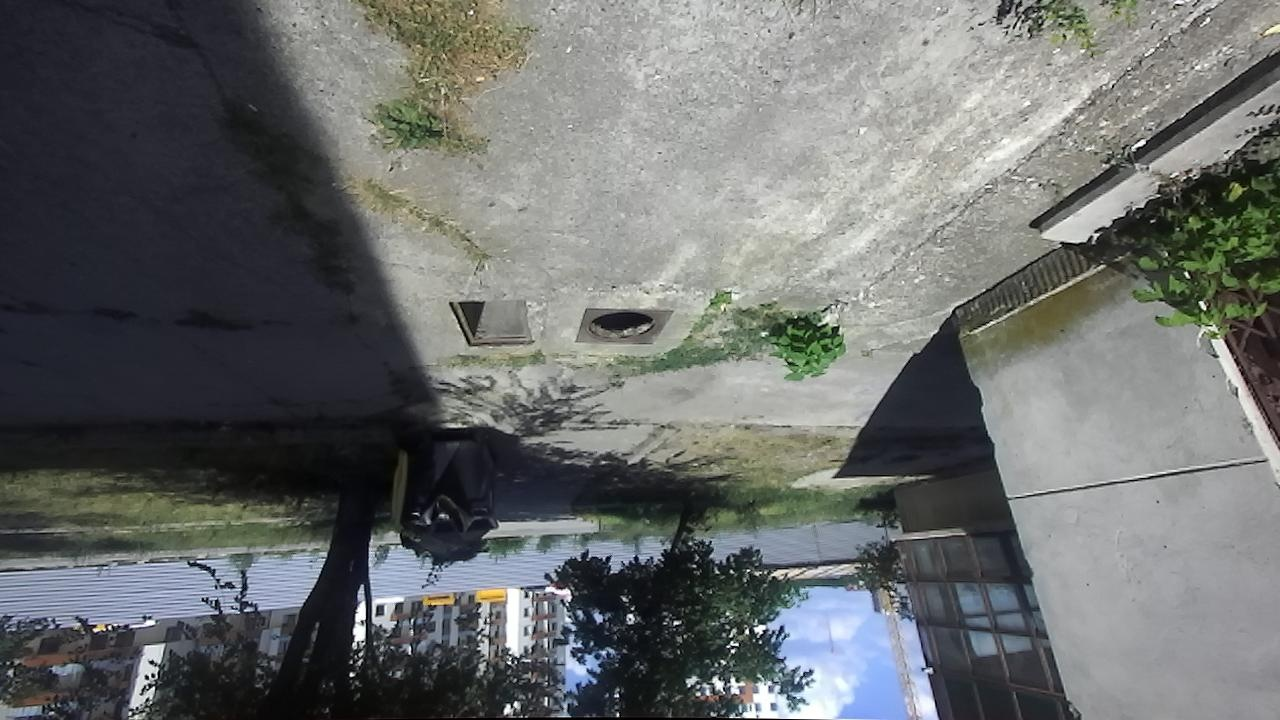drain: (444, 298, 534, 348), (583, 306, 663, 346)
